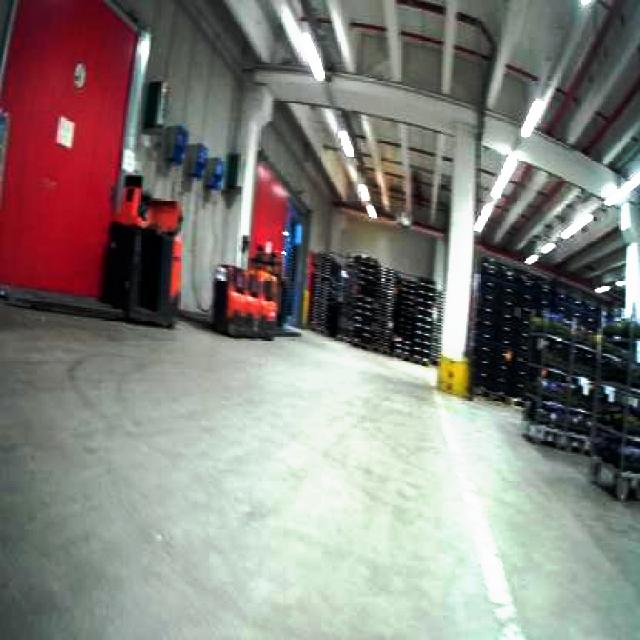ground: (0, 292, 638, 638)
pallet: (306, 246, 638, 508), (469, 254, 614, 406), (523, 315, 638, 502), (306, 249, 443, 366), (100, 180, 182, 328), (522, 325, 600, 455), (588, 317, 638, 503), (211, 251, 298, 338)
